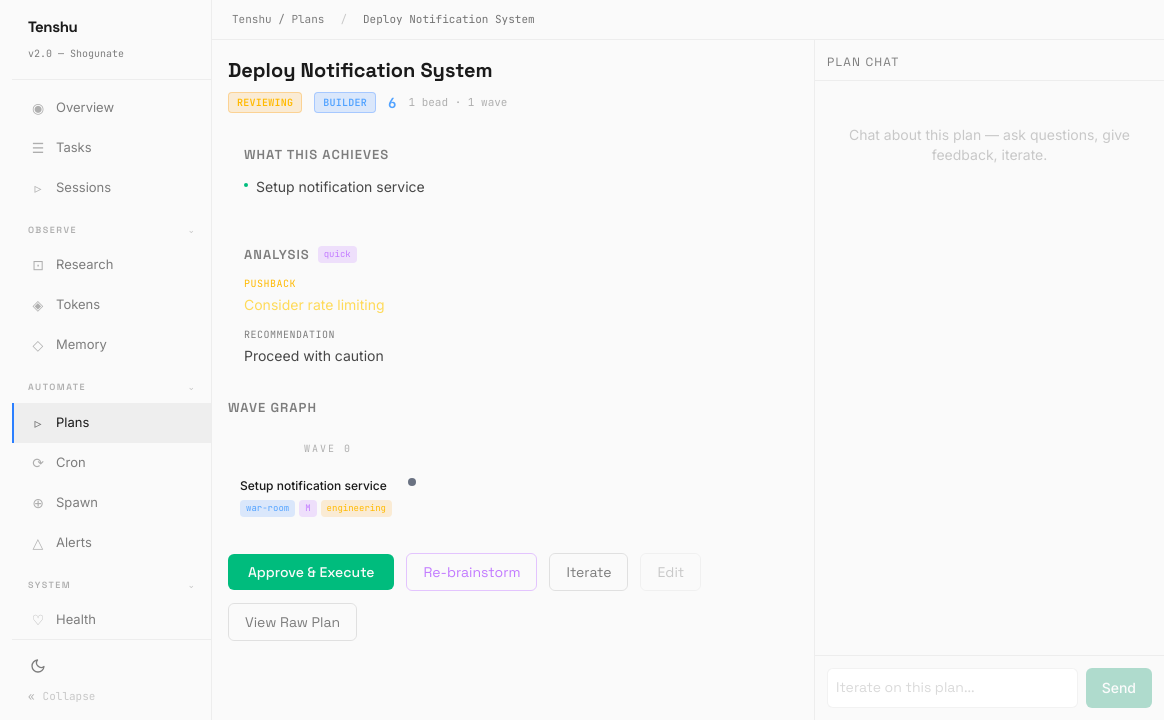
PlanDetailPage — Iterate UI › expands feedback textarea when Iterate button is clicked
Click the button "Iterate": (589, 572) [550,553,628,591]
(page scrolled)
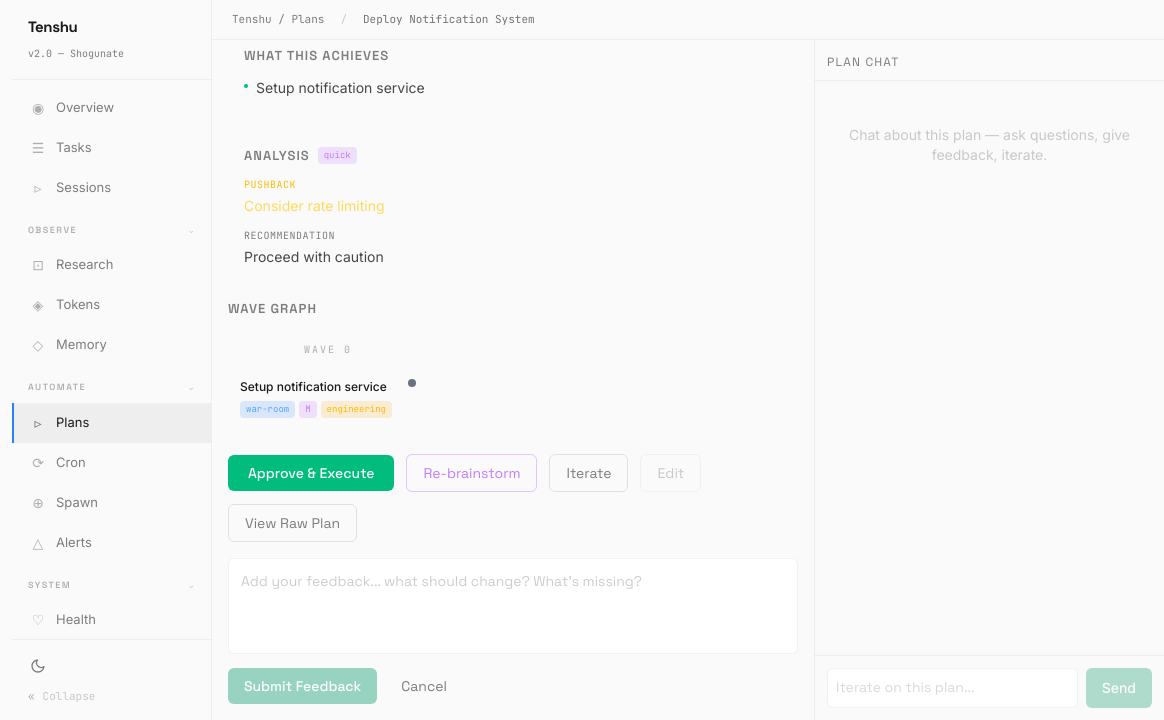
expect the text box with placeholder "Add your feedback... what should change? What's missing?" is shown: met, box [228,558,798,654]
